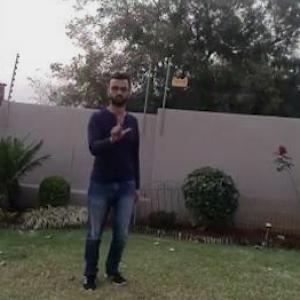land_hand: (108, 113, 136, 146)
